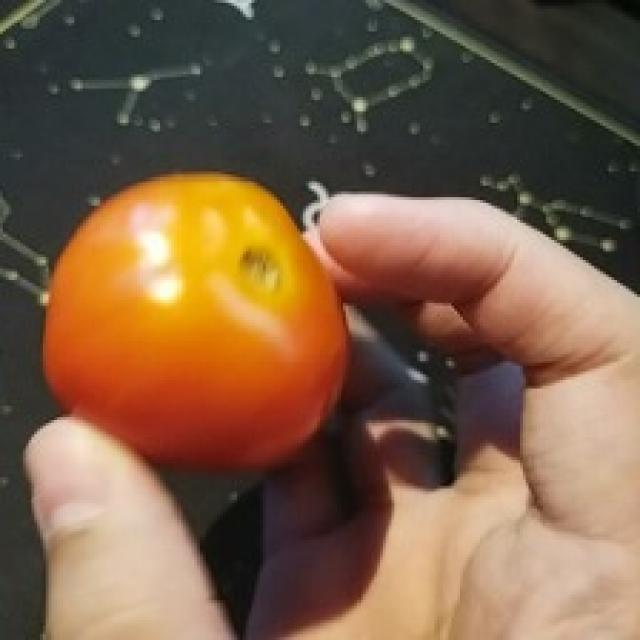Rotten Tomato: (19, 156, 354, 467)
